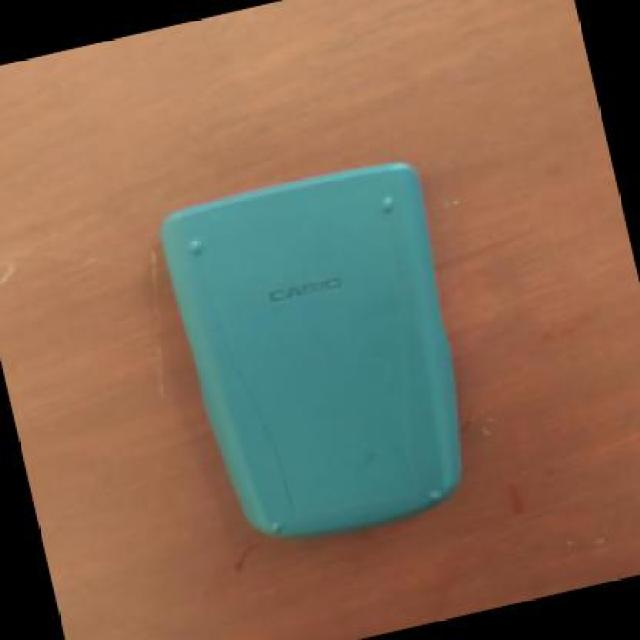Calculator: (143, 139, 497, 573)
